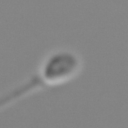normal: (1, 81, 42, 128)
